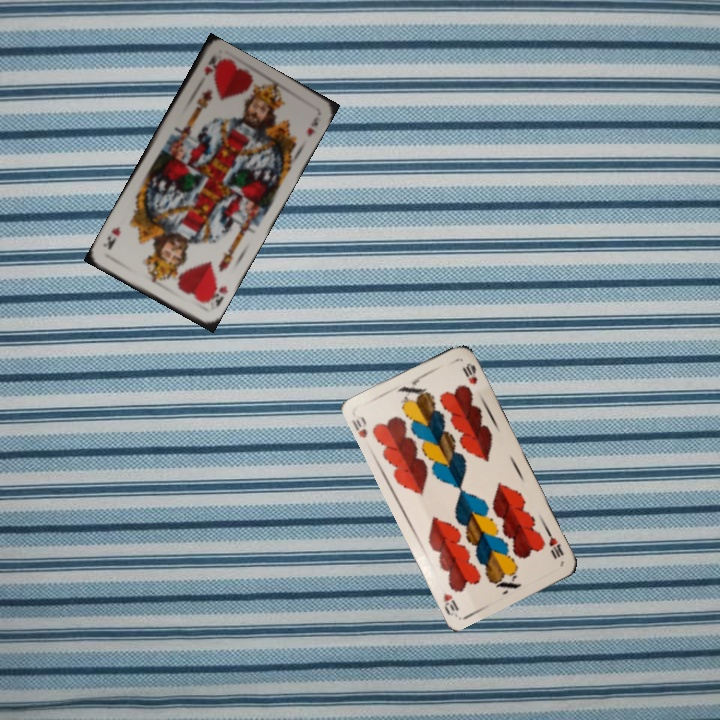H10: (542, 525, 566, 561), (348, 412, 370, 441)
HK: (202, 277, 230, 309), (200, 52, 221, 78)
